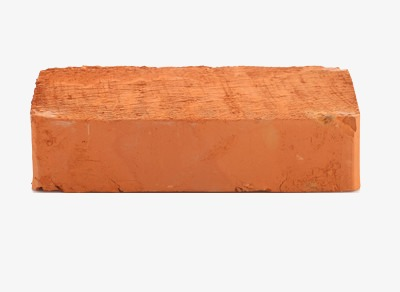brick: (26, 62, 365, 198)
